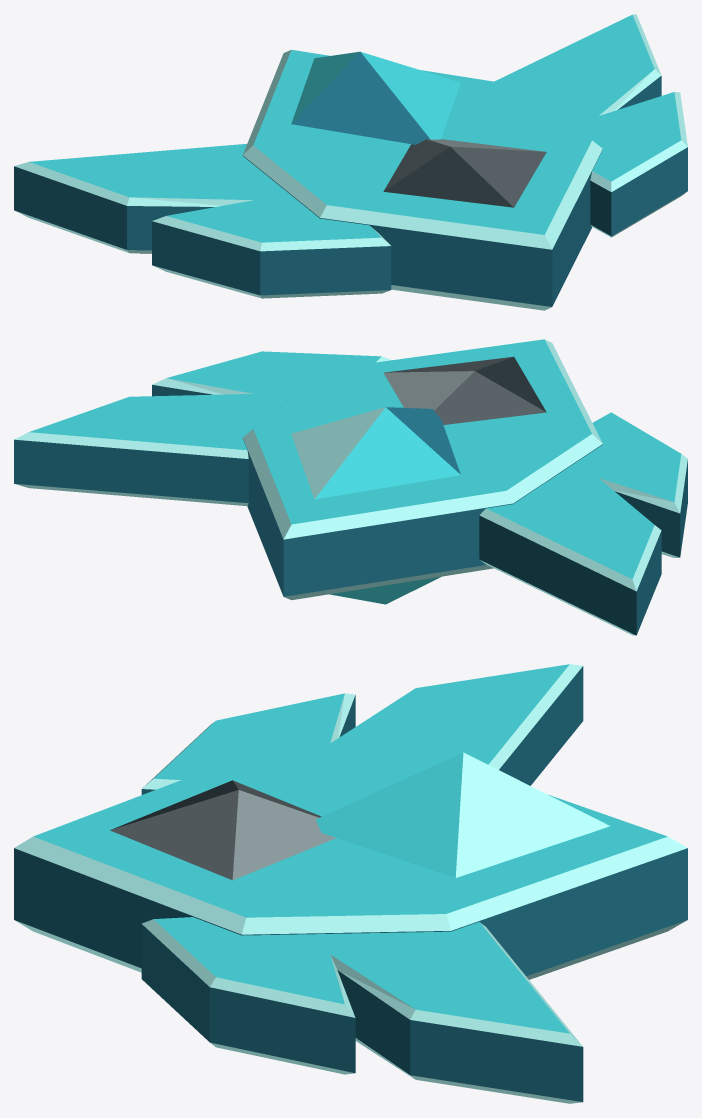
The model's file is diamond_shield.fbx.
3 views of the same model, one above another, from view 1: azimuth 30°, elevation 25°; view 2: azimuth 150°, elevation 25°; view 3: azimuth 270°, elevation 25° (orthographic). The views are drawn at different scales.
Visible parts, largest first — view 1: diamond_shield; view 2: diamond_shield; view 3: diamond_shield.
Boxes of the visible parts, x1,y1,x2,y2 form: diamond_shield: (14, 14, 687, 310); diamond_shield: (14, 339, 687, 635); diamond_shield: (14, 664, 687, 1103).
Bounding box in the file's own units: 1.98 × 0.6 × 1.48.
1 material, 1 textured.
